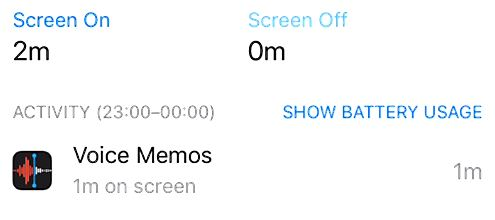activity: (8, 98, 224, 131)
app: (8, 138, 495, 208)
